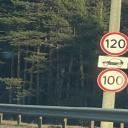speed_limit_100: (95, 68, 128, 94)
speed_limit_120: (99, 31, 128, 56)
